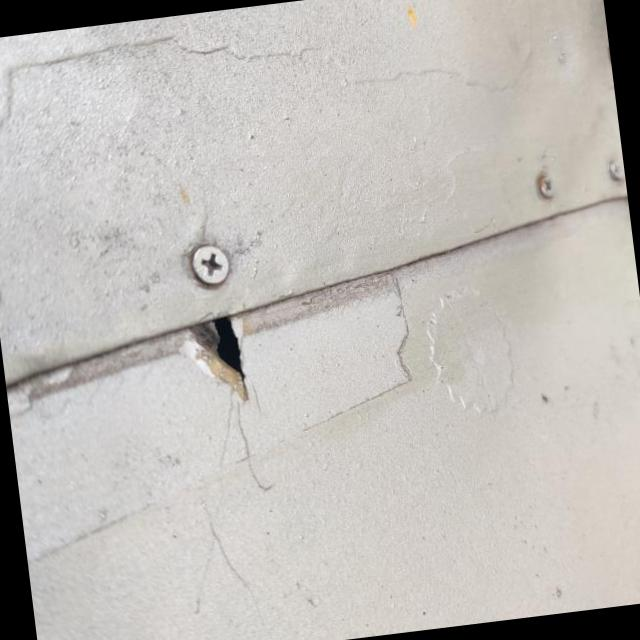Crack: (178, 318, 248, 402)
